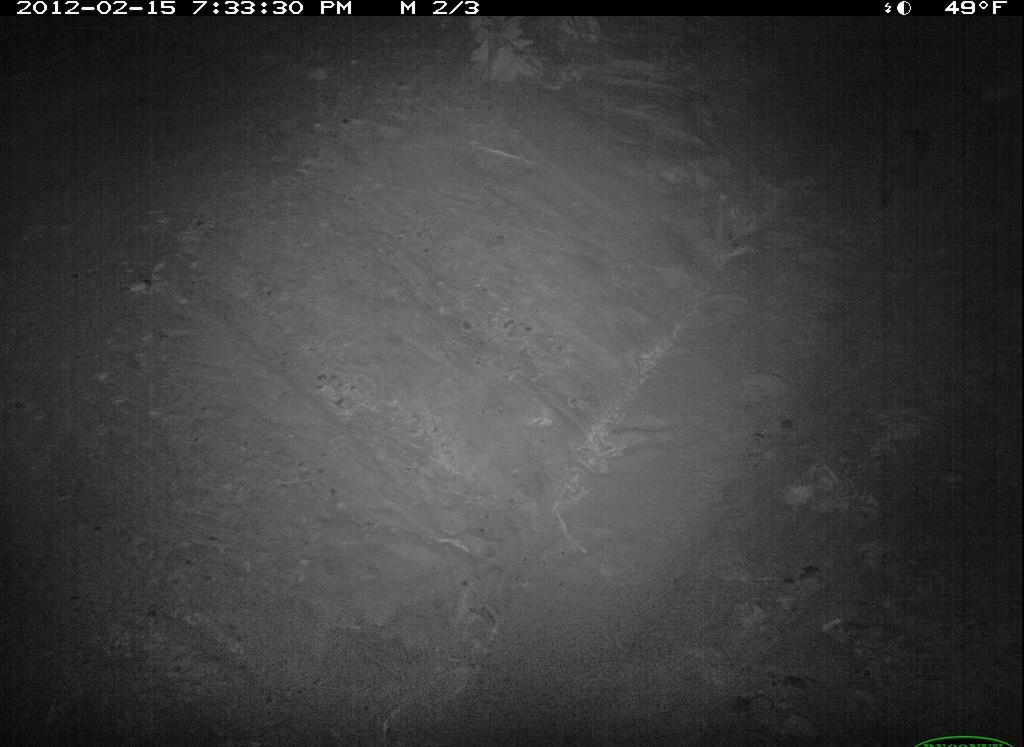opossum: (868, 117, 940, 219)
